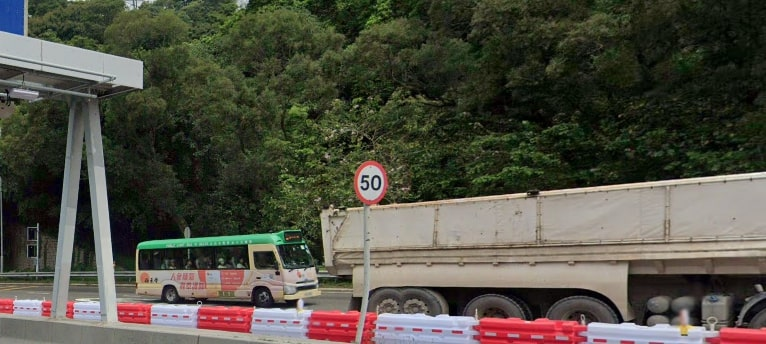Speed Limit: (352, 160, 389, 204)
